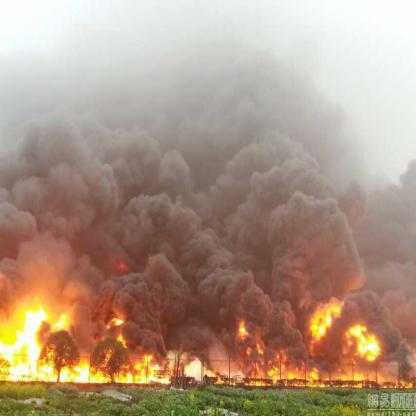fire: (3, 307, 152, 384), (240, 311, 396, 384)
smoke: (2, 93, 411, 305), (130, 310, 304, 376)
